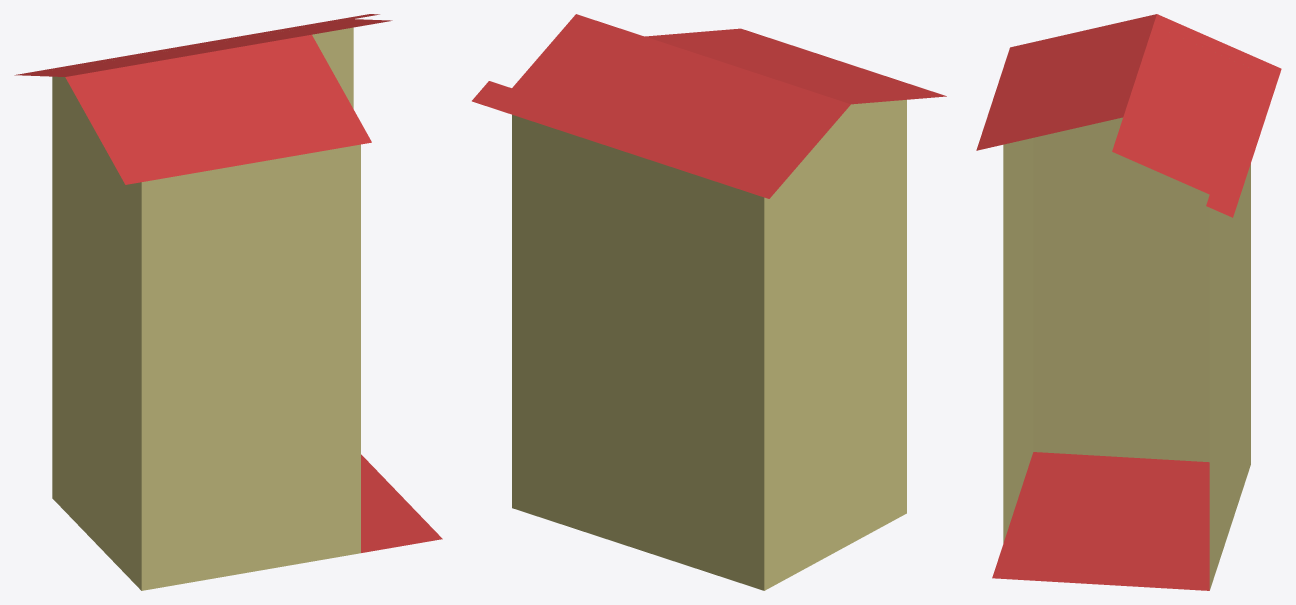
3 views of the same model, side by side, from view 1: azimuth 30°, elevation 25°; view 2: azimuth 150°, elevation 25°; view 3: azimuth 270°, elevation 25° (orthographic). The views are drawn at different scales.
Size of the model in its own units: 7.17 by 5.61 by 8.78.
